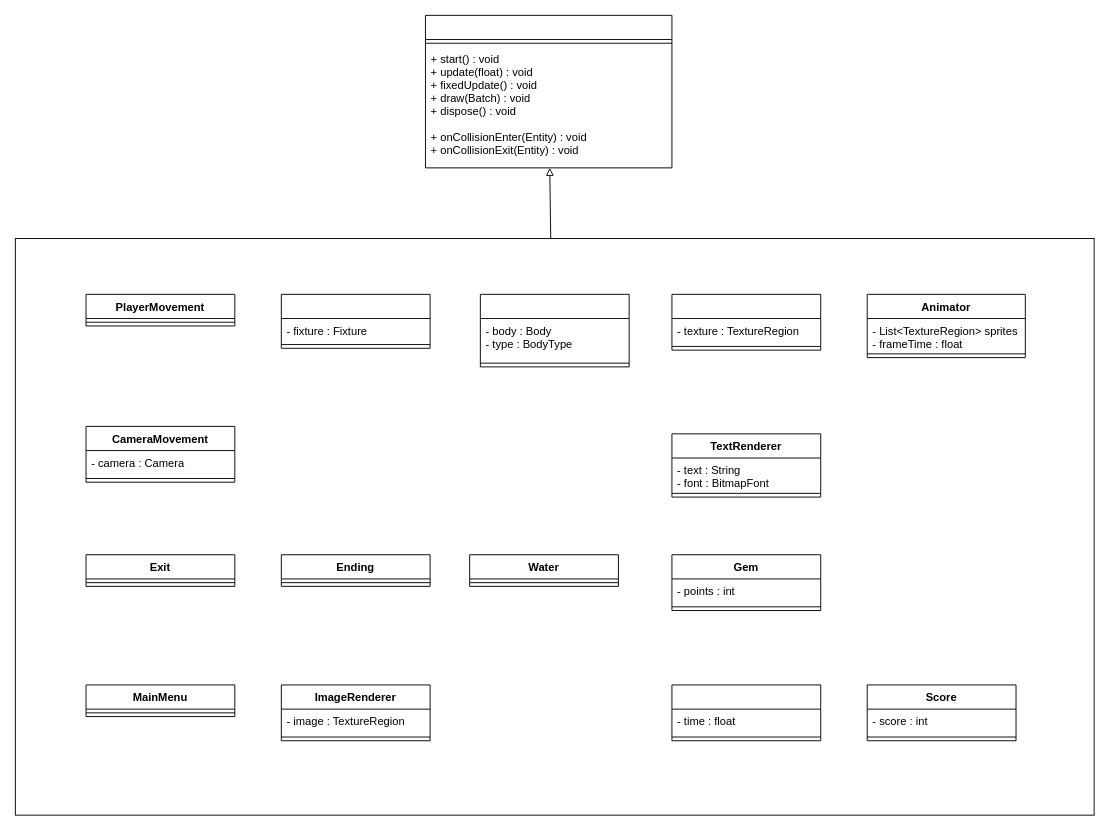
Some shapes in this 1109 by 830 pixel diagram are drawn without their labels. Here are the shapes that lost their labels. From the top down, the box of each, then its label:
(425, 14, 672, 168): Component
(280, 293, 430, 348): Collider2D
(479, 293, 629, 367): Rigidbody2D
(671, 293, 821, 350): TextureRenderer
(671, 684, 821, 741): Timer
